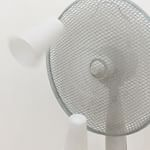cups: (6, 11, 70, 69), (65, 112, 89, 150)
